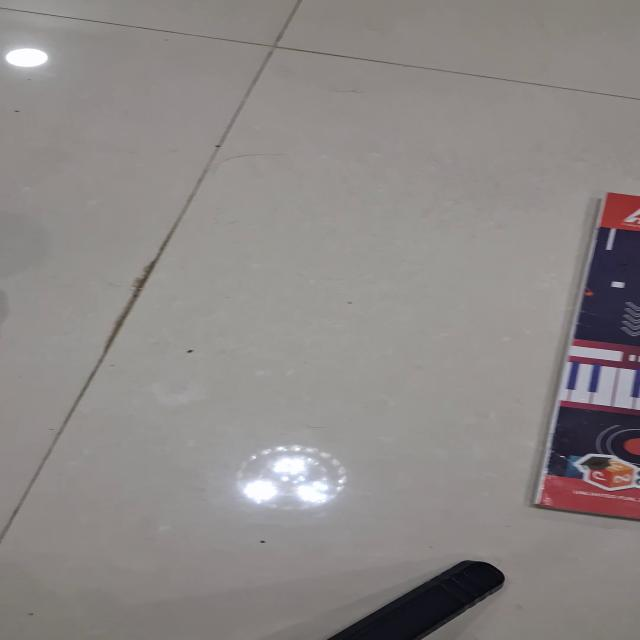paper: (531, 192, 639, 520)
